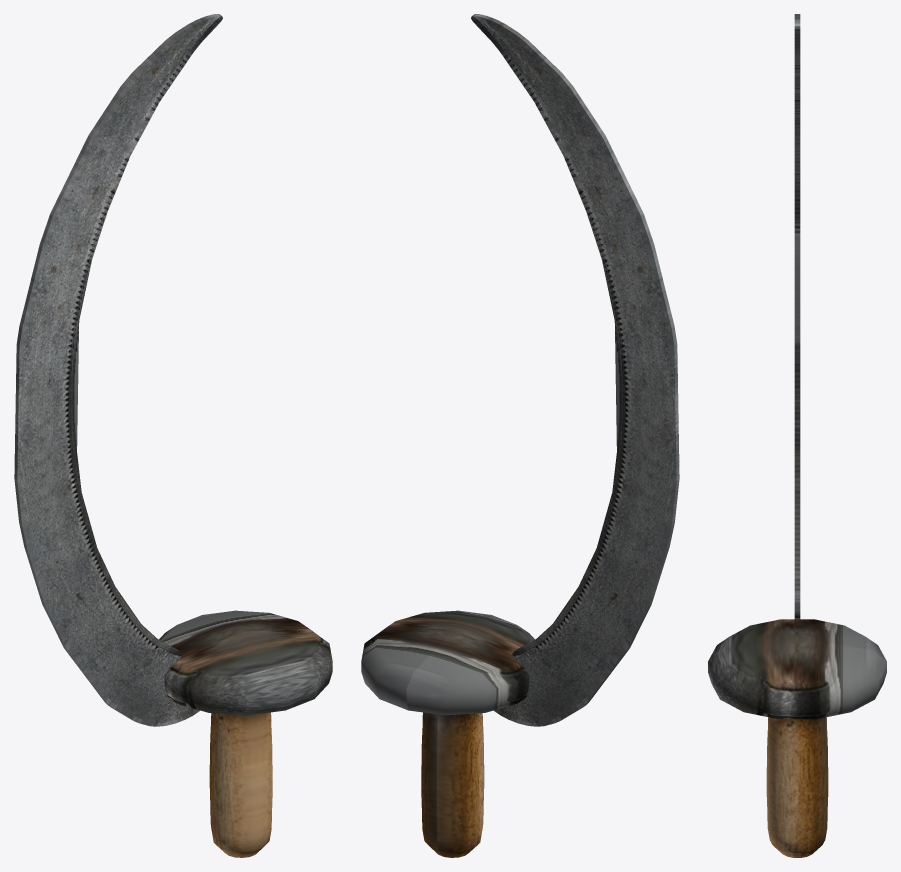
Rendered from sickle_p1_w1.glb.
The picture shows the model from 3 angles, left to right: view 1: azimuth 30°, elevation 25°; view 2: azimuth 150°, elevation 25°; view 3: azimuth 270°, elevation 25°; orthographic projection. The views are drawn at different scales.
Visible parts, largest first — view 1: sickle_p1_w1; view 2: sickle_p1_w1; view 3: sickle_p1_w1.
Boxes of the visible parts, <box> form: sickle_p1_w1: <box>14,14,332,857</box>; sickle_p1_w1: <box>361,14,679,857</box>; sickle_p1_w1: <box>708,14,886,857</box>.
Size of the model in its own units: 0.1802 by 0.4808 by 0.095.
1 material, 1 textured.
